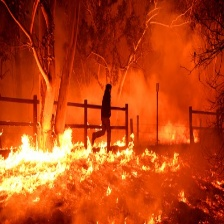fire: (1, 130, 150, 200), (144, 150, 191, 179), (163, 122, 189, 139), (177, 188, 193, 206), (143, 212, 166, 224)
smoke: (88, 21, 216, 119)
